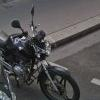Motorcycle: (1, 24, 83, 100)
